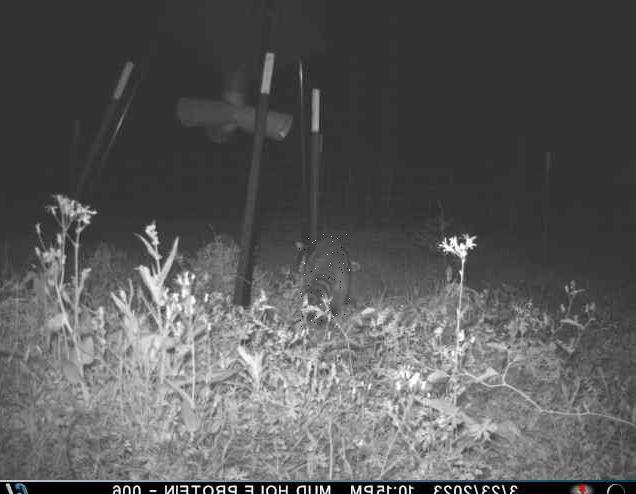Raccoon: (296, 235, 351, 328)
